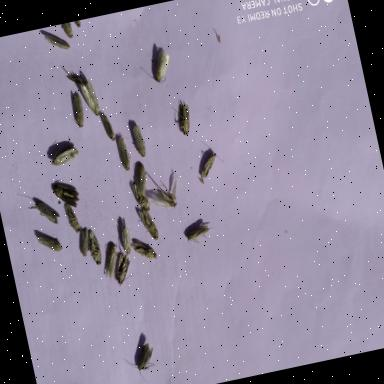pbw: (70, 64, 104, 120), (145, 172, 186, 216), (194, 138, 228, 183), (50, 174, 84, 216), (138, 49, 175, 87), (28, 194, 62, 228), (96, 240, 124, 280), (172, 99, 198, 137), (48, 140, 82, 168), (131, 234, 160, 266), (184, 218, 216, 246), (66, 88, 88, 128), (137, 204, 160, 242), (130, 162, 152, 201), (60, 59, 88, 89), (114, 211, 133, 255), (42, 26, 70, 54), (36, 226, 64, 254), (115, 132, 134, 173), (128, 120, 148, 158), (112, 255, 135, 288), (85, 230, 104, 266), (62, 200, 82, 234), (132, 180, 152, 214), (99, 108, 117, 144), (75, 226, 93, 258), (62, 22, 76, 42), (74, 20, 84, 28)
